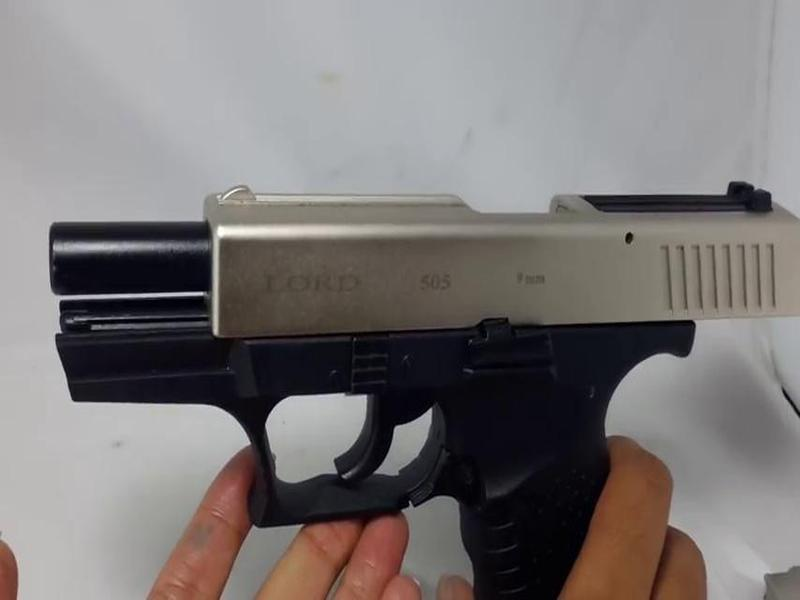Pistola: (32, 177, 760, 600)
